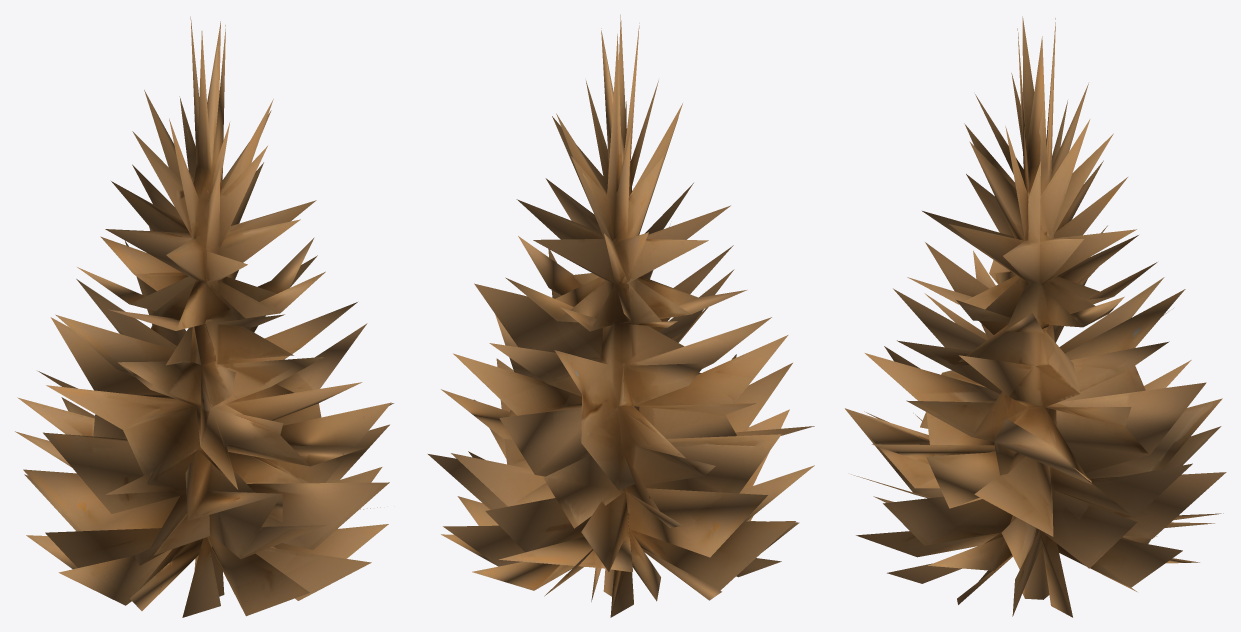
File: spruce.glb
3 views of the same model, side by side, from view 1: azimuth 30°, elevation 25°; view 2: azimuth 150°, elevation 25°; view 3: azimuth 270°, elevation 25° (orthographic).
Parts seen in each view (by area): view 1: tripo_node_d1338526-09bb-48a0-b802-0fc5ba88c3b6; view 2: tripo_node_d1338526-09bb-48a0-b802-0fc5ba88c3b6; view 3: tripo_node_d1338526-09bb-48a0-b802-0fc5ba88c3b6.
Part boxes in pixels (bbox=[...]): tripo_node_d1338526-09bb-48a0-b802-0fc5ba88c3b6: bbox=[15, 16, 393, 617]; tripo_node_d1338526-09bb-48a0-b802-0fc5ba88c3b6: bbox=[428, 14, 814, 617]; tripo_node_d1338526-09bb-48a0-b802-0fc5ba88c3b6: bbox=[845, 16, 1226, 617].
Bounding box in the file's own units: 0.6113 × 0.998 × 0.6035.
1 material, 1 textured.
